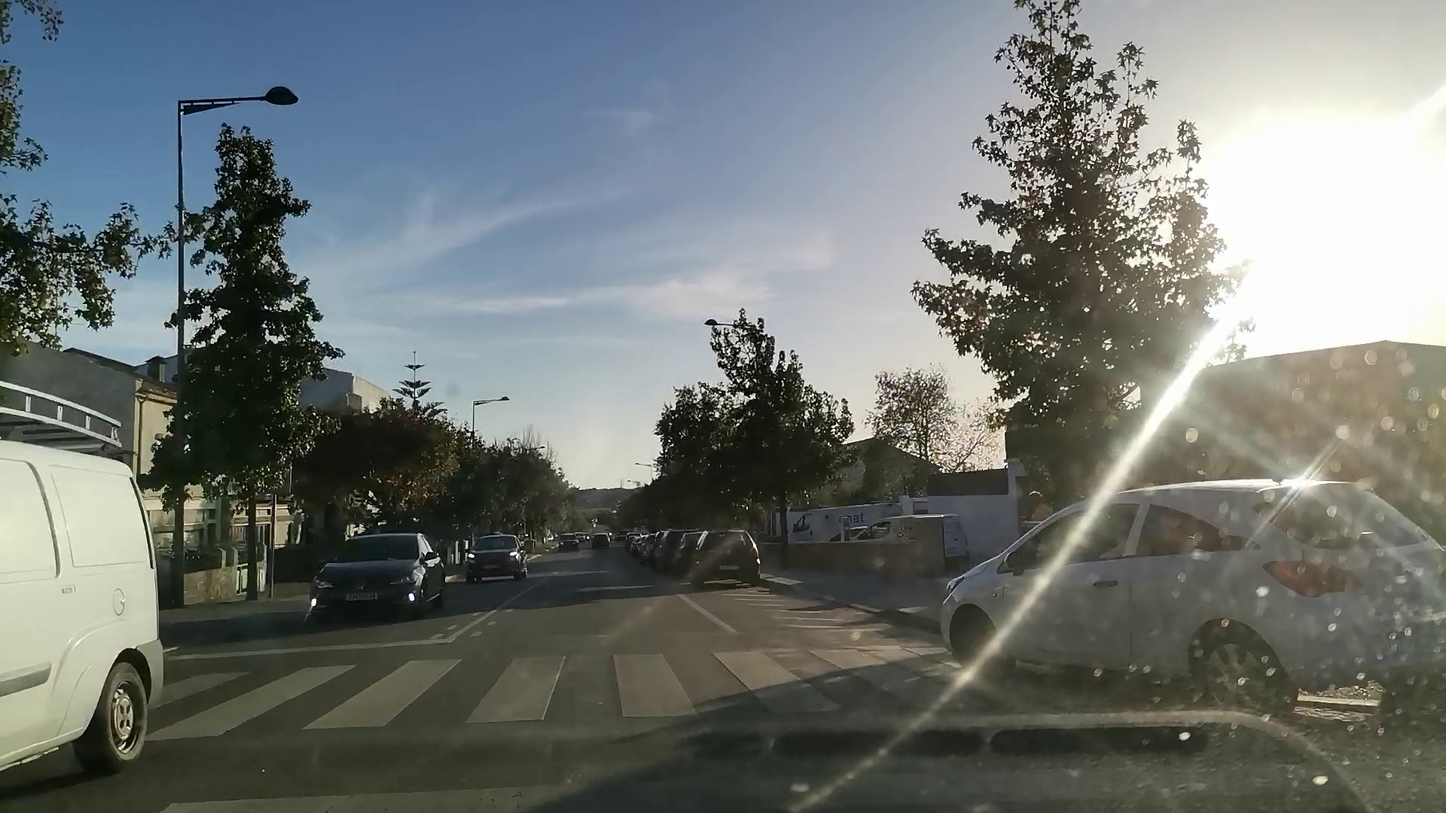Stairs: (166, 653, 1013, 727)
